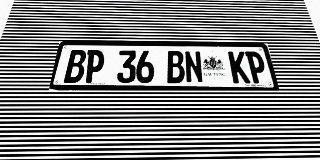3: (117, 50, 136, 83)
6: (136, 50, 154, 83)
B: (63, 50, 87, 83), (166, 51, 185, 83)
K: (228, 51, 251, 83)
N: (184, 51, 204, 83)
P: (245, 51, 269, 83), (83, 50, 105, 83)
